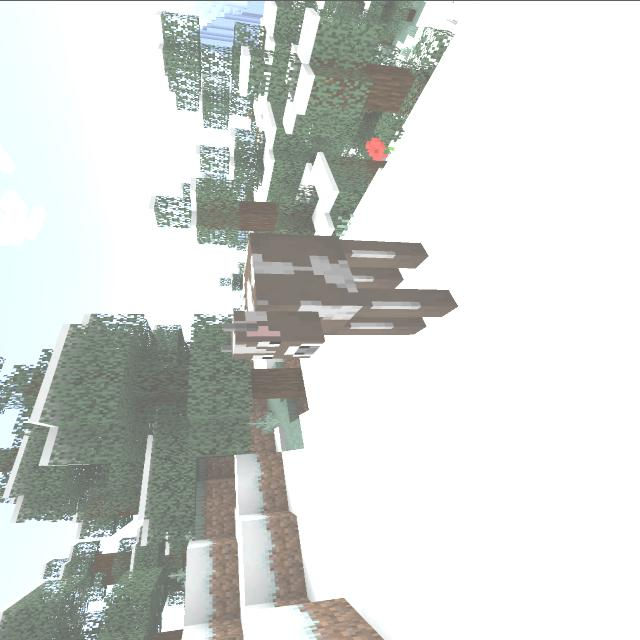cow: (210, 220, 467, 366)
